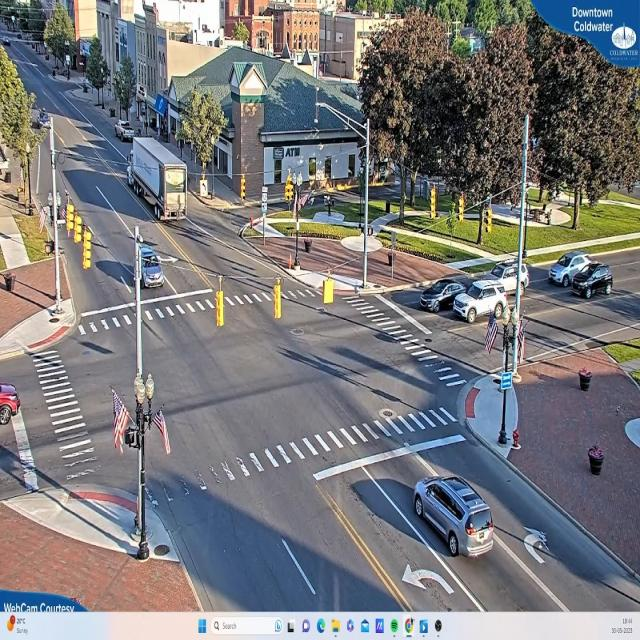car: (413, 477, 495, 559), (452, 284, 512, 325), (477, 264, 530, 296), (422, 279, 469, 315), (549, 252, 595, 286), (572, 264, 615, 300), (139, 248, 165, 291), (1, 383, 22, 425), (117, 122, 136, 143)
truck: (125, 137, 191, 225)
